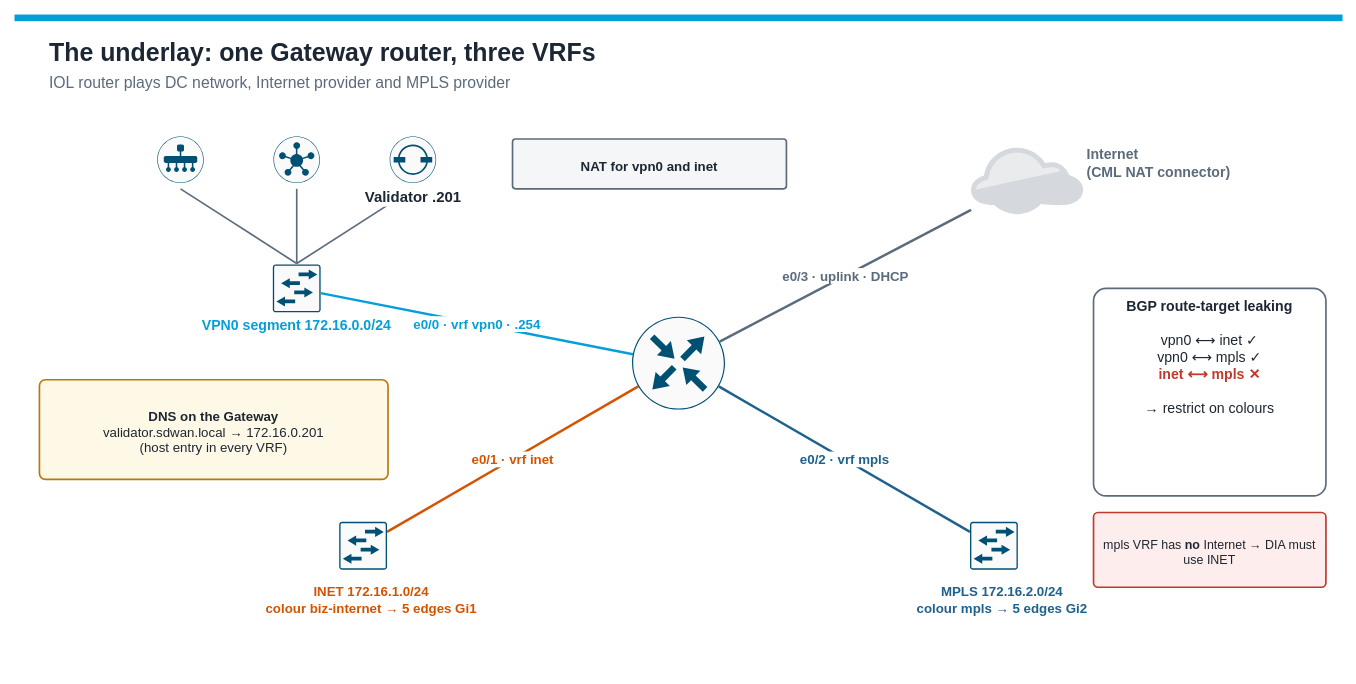
This 1356x684 diagram has some shape labels left out. The shapes that lost their labels are listed below. From the top down, each one's box as (x1, y1, x2, y2) in pixels, then its label:
(156, 136, 204, 183): Manager .1
(273, 136, 320, 183): Controller .101
(631, 316, 725, 410): Gateway
